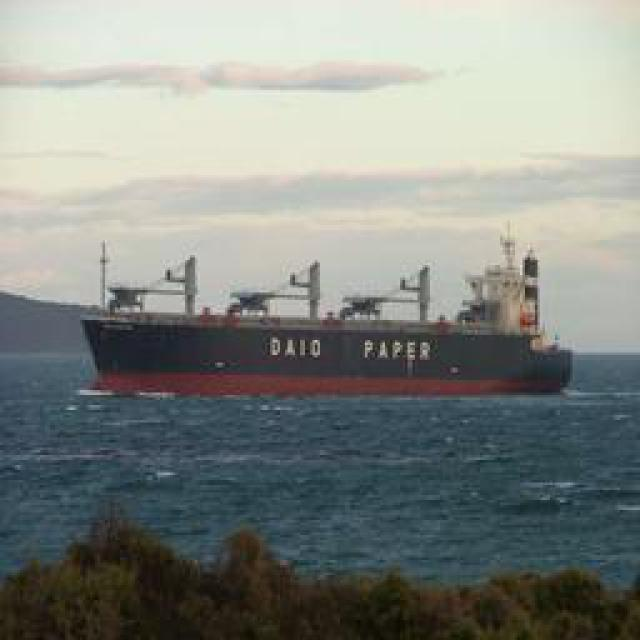Ship: (91, 227, 581, 397)
